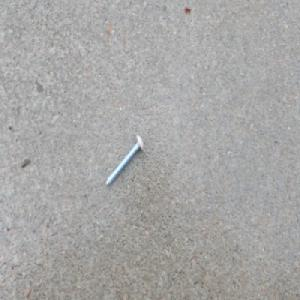Nail: (103, 134, 143, 189)
